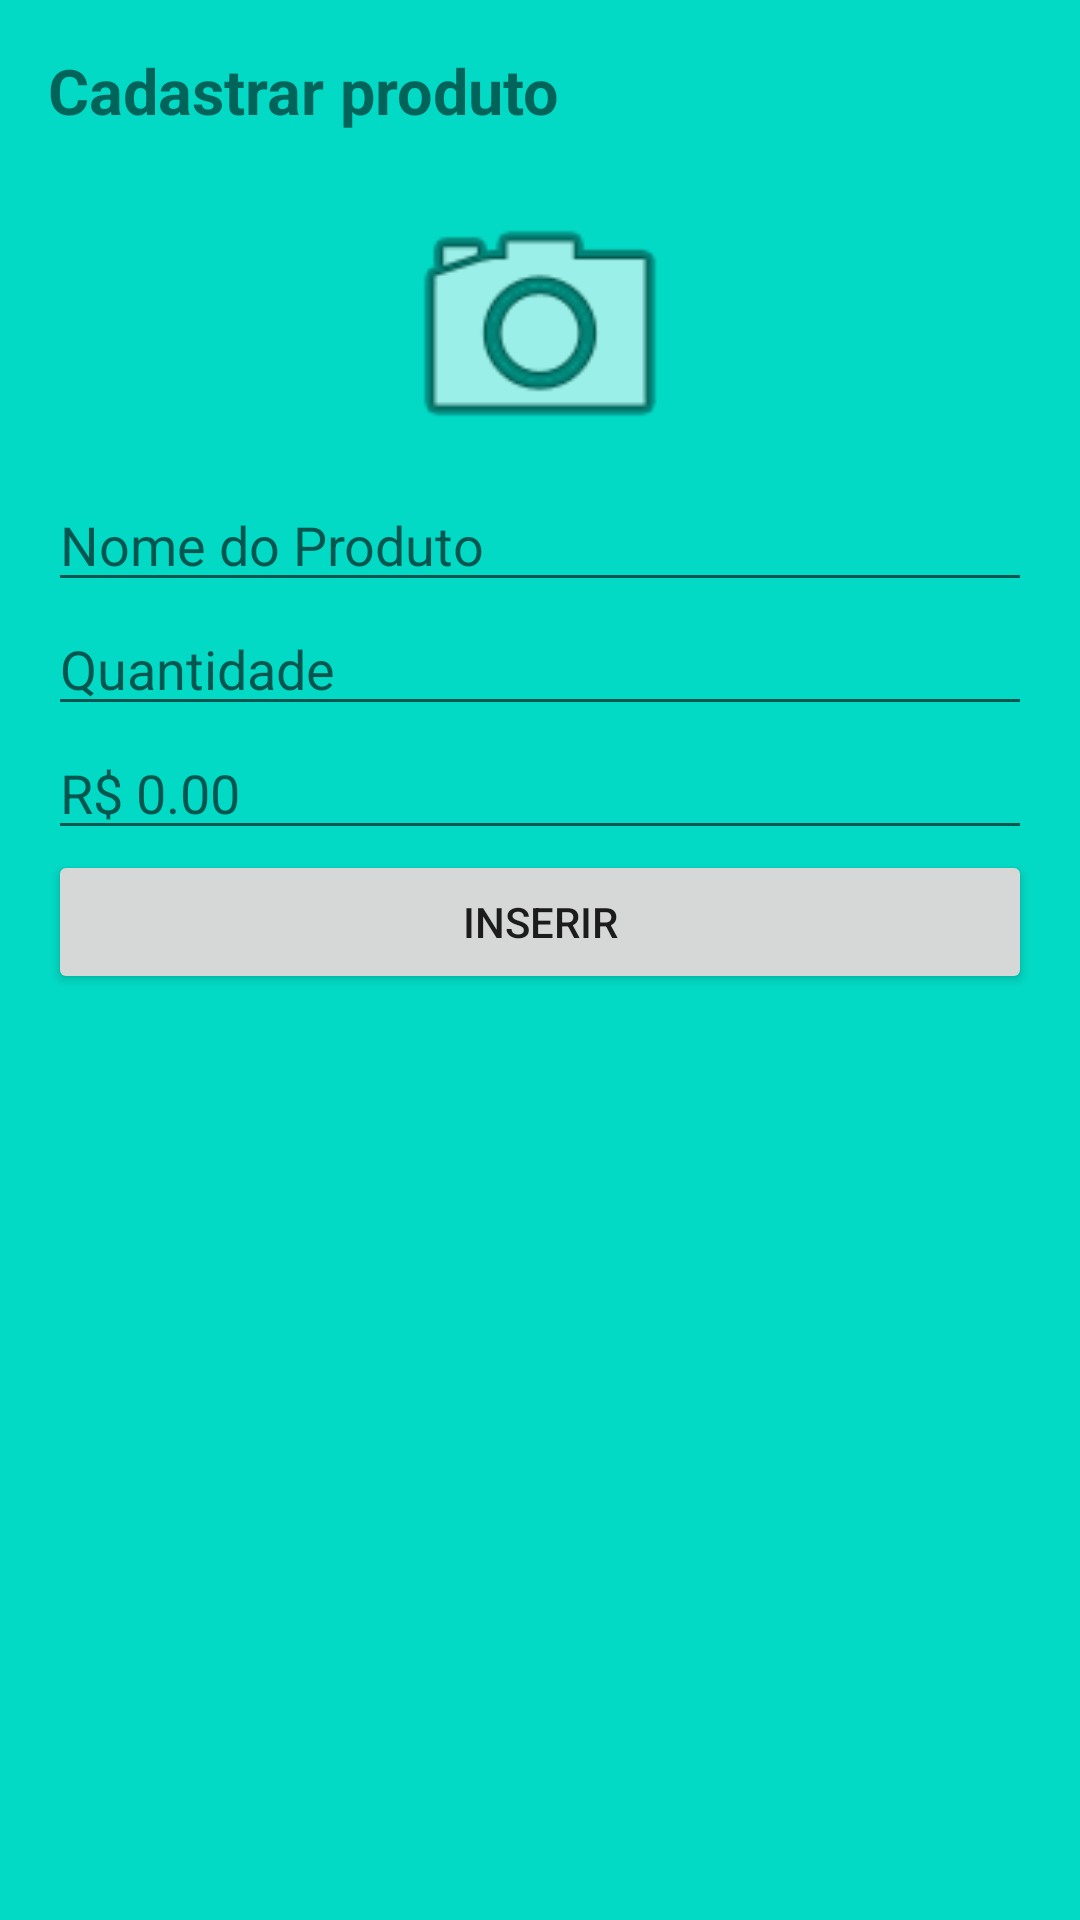

Point at icon controls on the screen. Image size 1080px×1920px, points as [x,y].
camera: [540,323]
